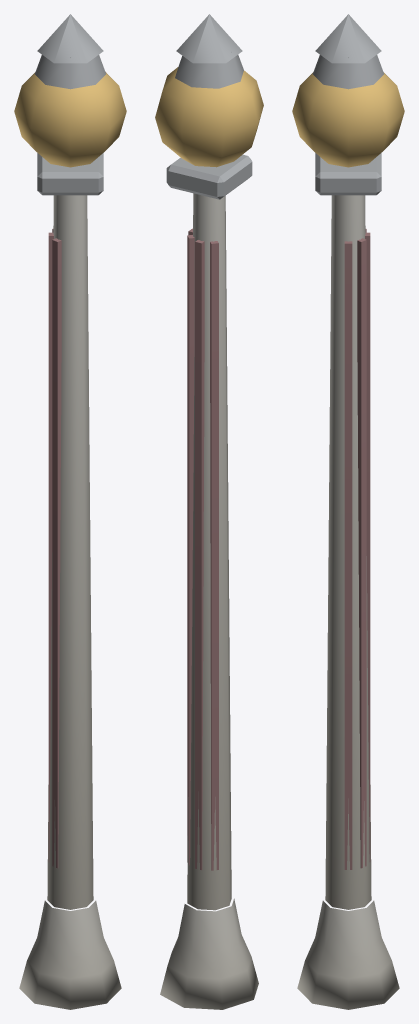
The model's file is deco_street_lamp.glb.
3 views of the same model, side by side, from view 1: azimuth 90°, elevation 25°; view 2: azimuth 150°, elevation 25°; view 3: azimuth 270°, elevation 25° (orthographic).
Visible parts, largest first — view 1: deco_street_lamp; view 2: deco_street_lamp; view 3: deco_street_lamp.
Boxes of the visible parts, x1,y1,x2,y2 form: deco_street_lamp: (14,14,126,1009); deco_street_lamp: (155,14,263,1009); deco_street_lamp: (292,14,404,1009).
Size of the model in its own units: 0.4399 by 4.2 by 0.4399.
